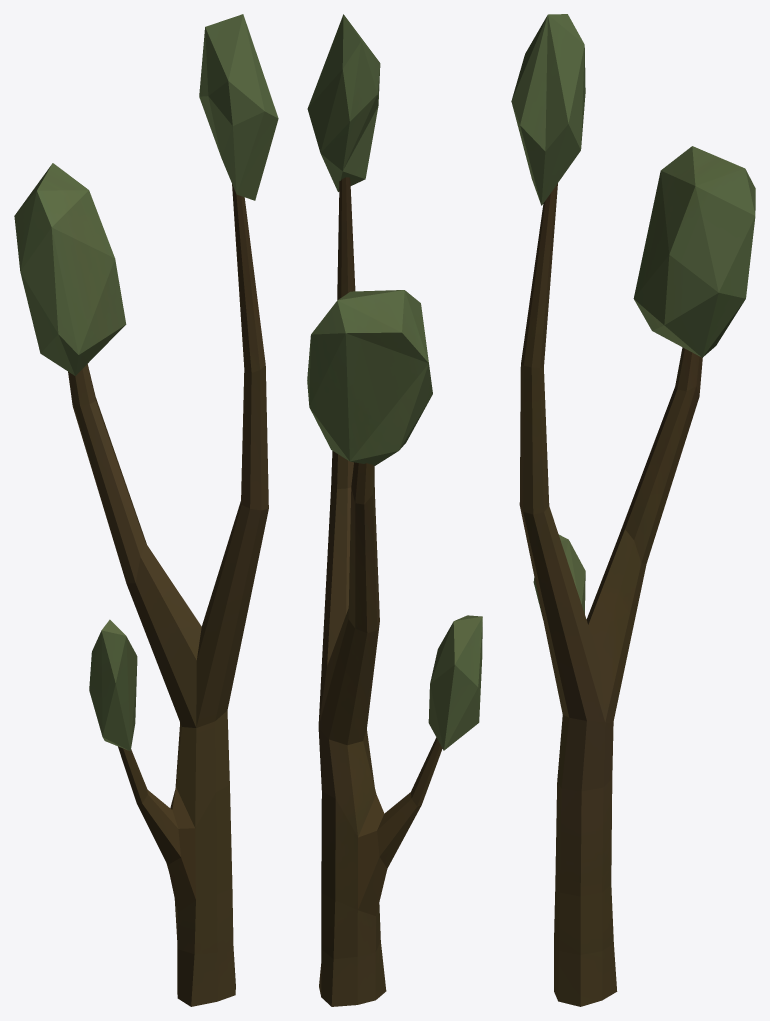
Rendered from Tree3Stage2.fbx.
3 renders of one model, left to right at view 1: azimuth 30°, elevation 25°; view 2: azimuth 150°, elevation 25°; view 3: azimuth 270°, elevation 25°, orthographic. The views are drawn at different scales.
Parts seen in each view (by area): view 1: Tree3Stage2; view 2: Tree3Stage2; view 3: Tree3Stage2.
Boxes of the visible parts, left/top/right/bottom form: Tree3Stage2: left=14, top=14, right=278, bottom=1006; Tree3Stage2: left=307, top=14, right=482, bottom=1006; Tree3Stage2: left=511, top=14, right=755, bottom=1006.
Bounding box in the file's own units: 36.52 × 189 × 42.35.
